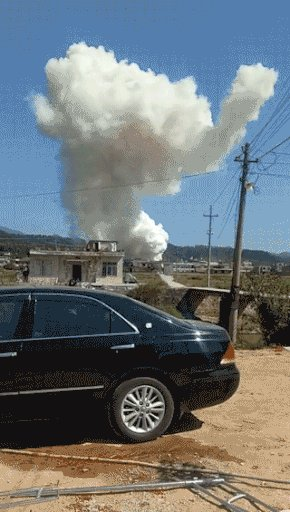smoke: (44, 42, 271, 271)
